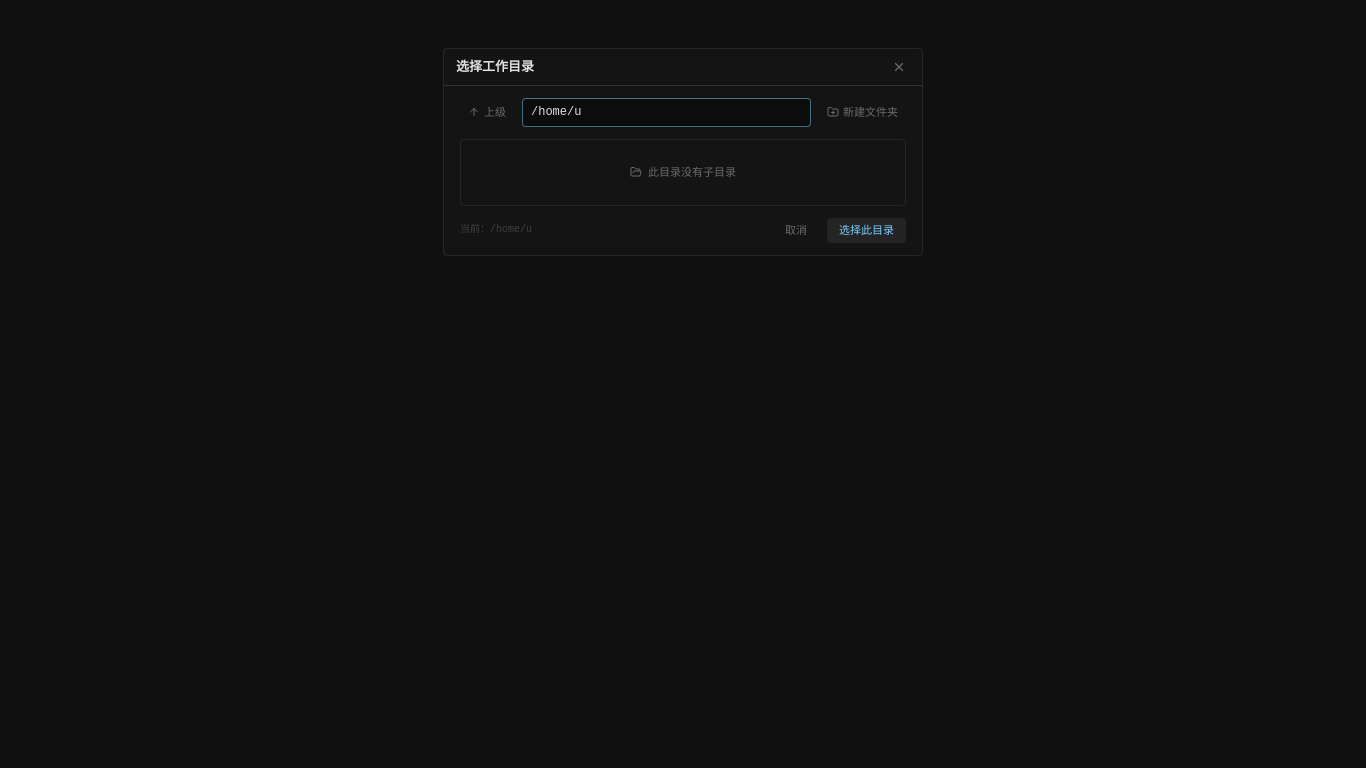
Test case: DirectoryPickerModal › 手改路径后直接点选但路径不存在 → 不选、不关，只报错
The width and height of the screenshot is (1366, 768).
Replace the text in the field with placeholder "路径或 ~（回车跳转）" with "/gone": (666, 112) [522,98,811,127]
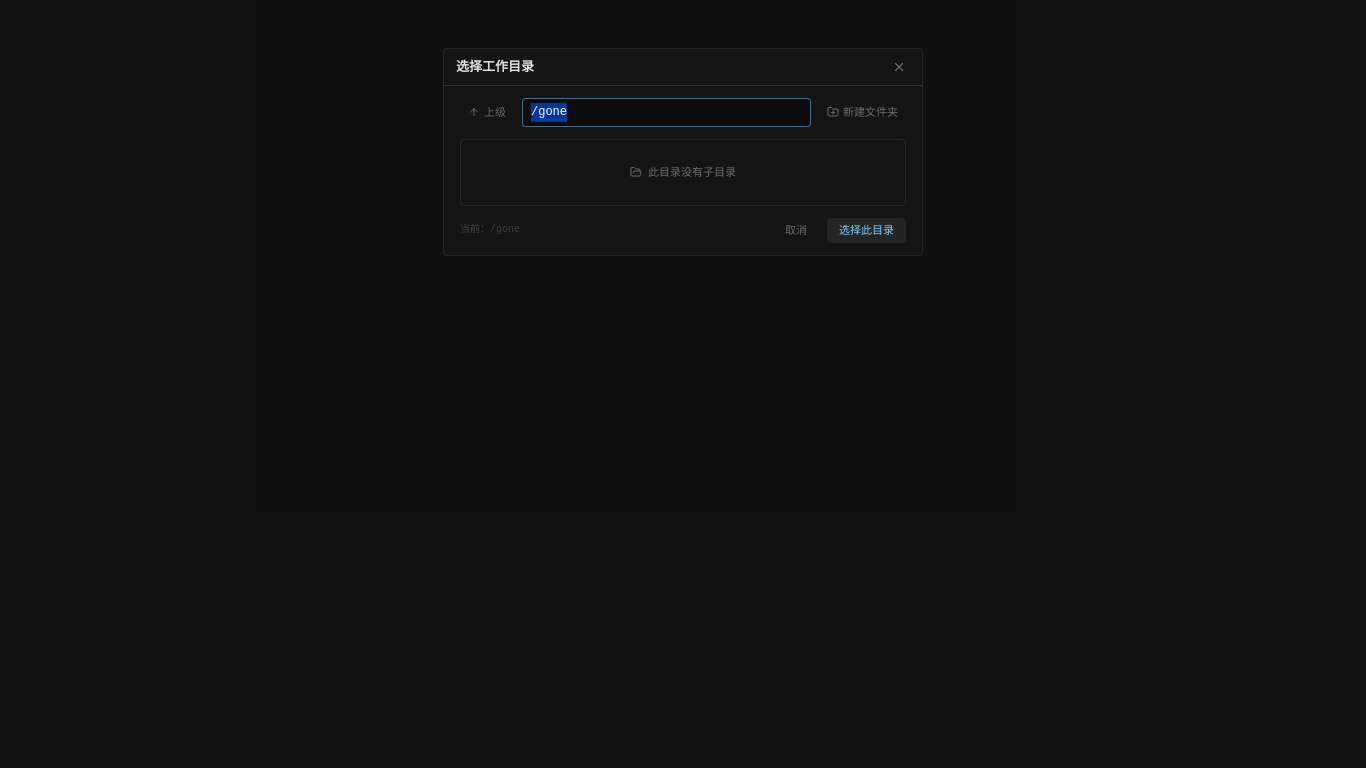
Click the button "选择此目录": (866, 230) [827,218,906,243]
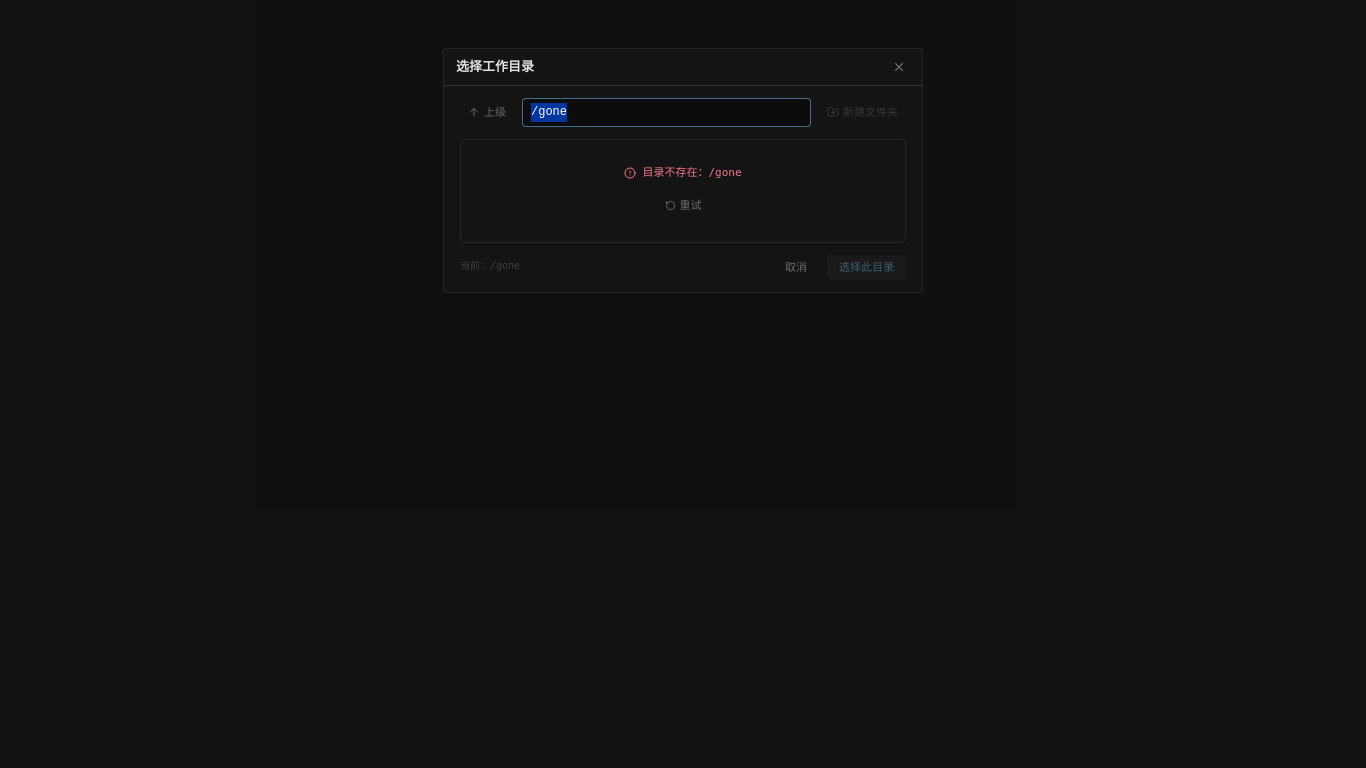
Expected: the text "目录不存在：/gone" is shown, [624,164,742,181]
